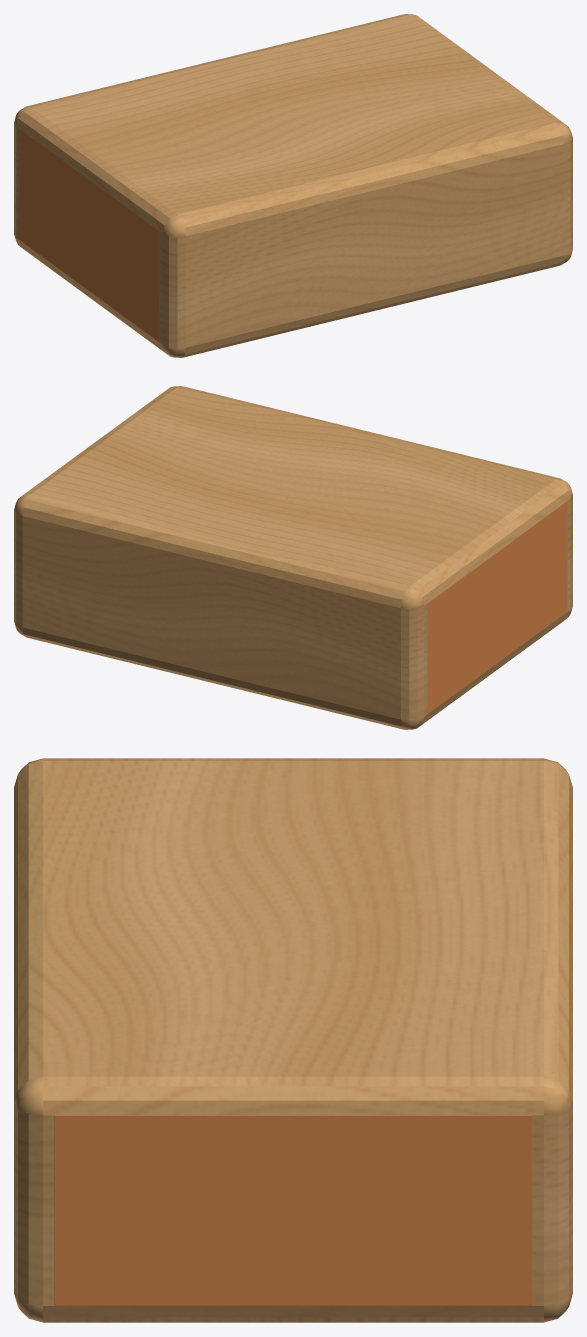
Rendered from block.glb.
3 views of the same model, one above another, from view 1: azimuth 30°, elevation 25°; view 2: azimuth 150°, elevation 25°; view 3: azimuth 270°, elevation 25° (orthographic). The views are drawn at different scales.
Parts seen in each view (by area): view 1: block; view 2: block; view 3: block.
Boxes of the visible parts, x1,y1,x2,y2 form: block: (14, 14, 572, 357); block: (14, 386, 572, 729); block: (14, 758, 572, 1322).
Bounding box in the file's own units: 0.036 × 0.012 × 0.025.
2 materials, 1 textured.
